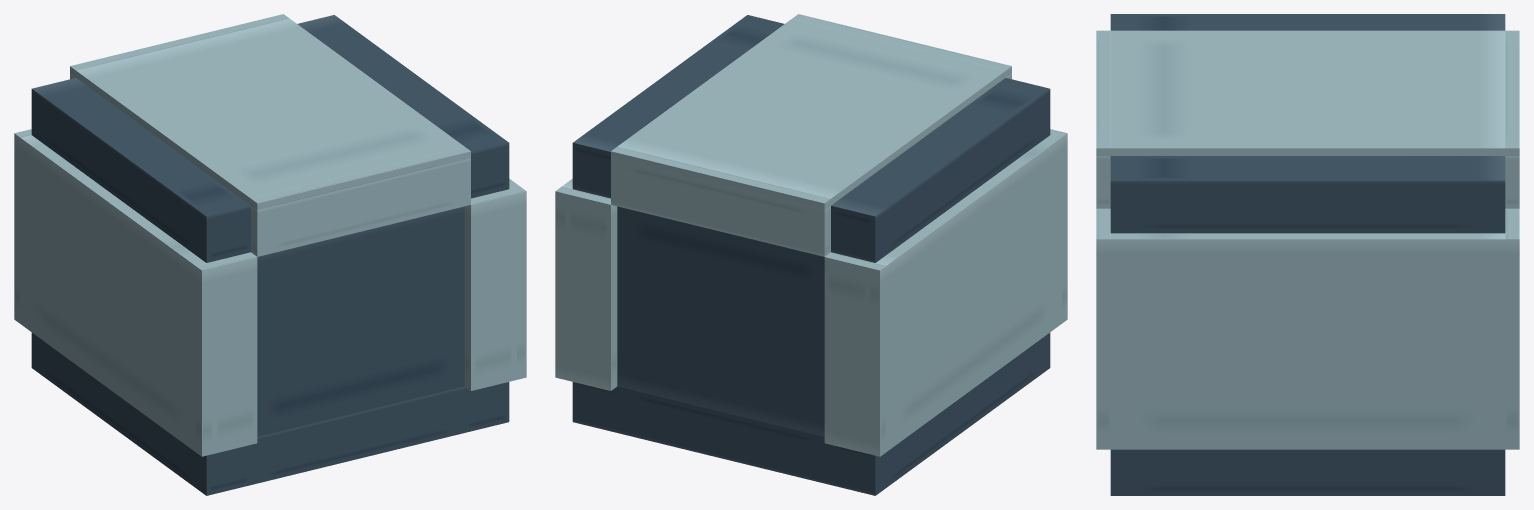
File: sc_crate_steel.obj
3 views of the same model, side by side, from view 1: azimuth 30°, elevation 25°; view 2: azimuth 150°, elevation 25°; view 3: azimuth 270°, elevation 25° (orthographic). The views are drawn at different scales.
Bounding box in the file's own units: 14.6 × 12.3 × 14.6.
1 material, 1 textured.
